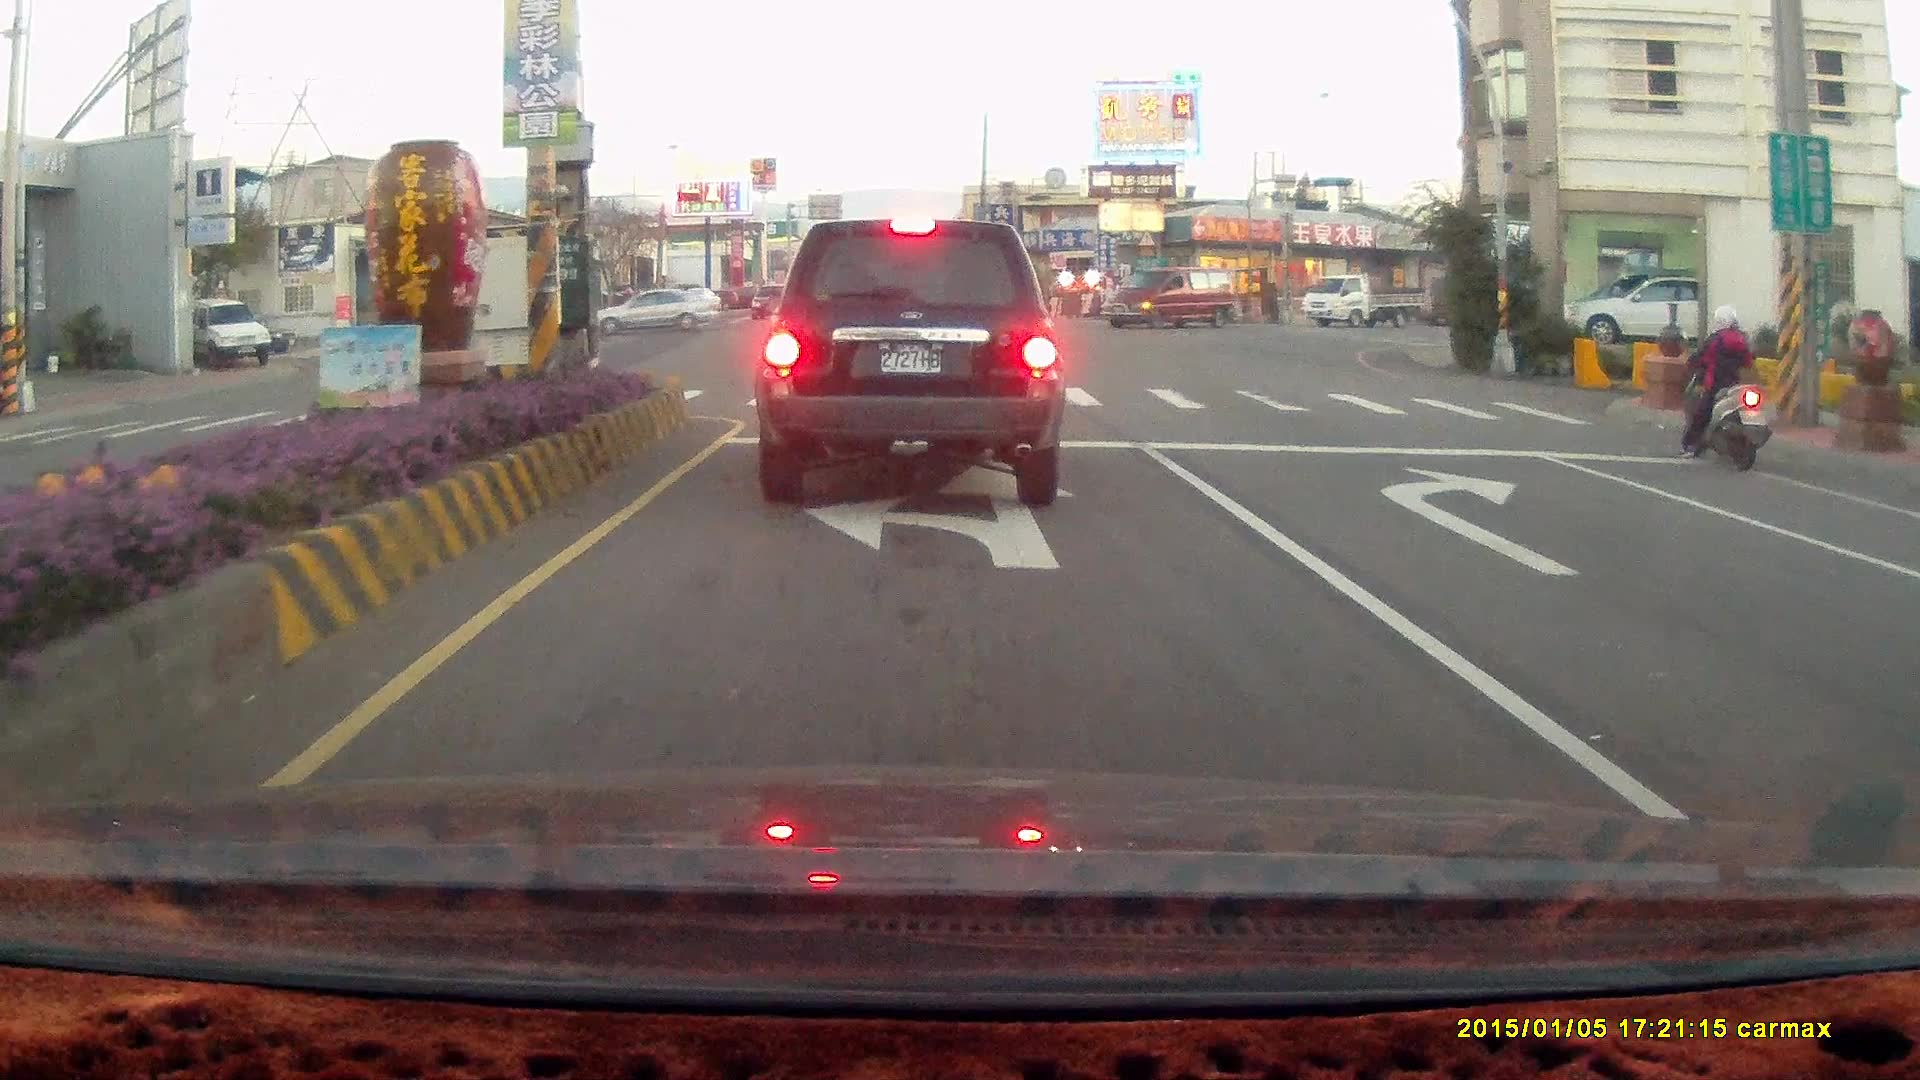rider: (1676, 307, 1771, 474)
vehicle: (751, 216, 1066, 503), (1552, 272, 1746, 350), (1107, 268, 1243, 331), (1573, 281, 1703, 347), (1101, 266, 1236, 329), (1896, 493, 1920, 836), (173, 294, 271, 368), (1304, 274, 1429, 331), (590, 283, 713, 335), (600, 286, 720, 336), (1883, 528, 1920, 690)
